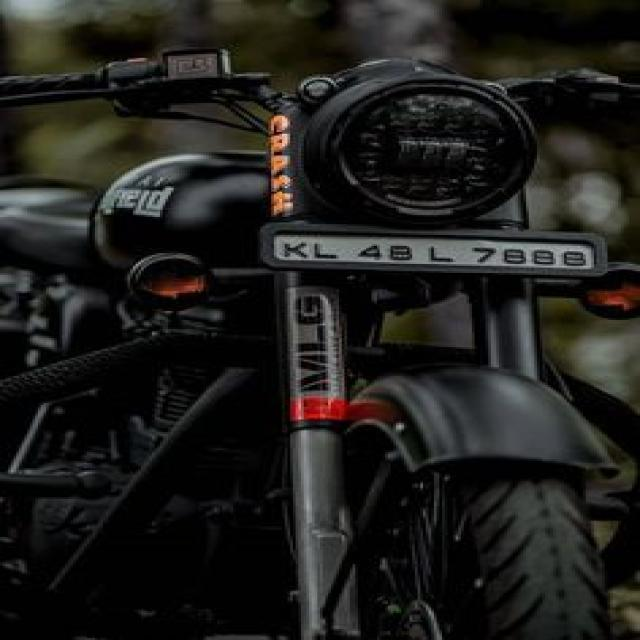number plate: (258, 222, 608, 275)
